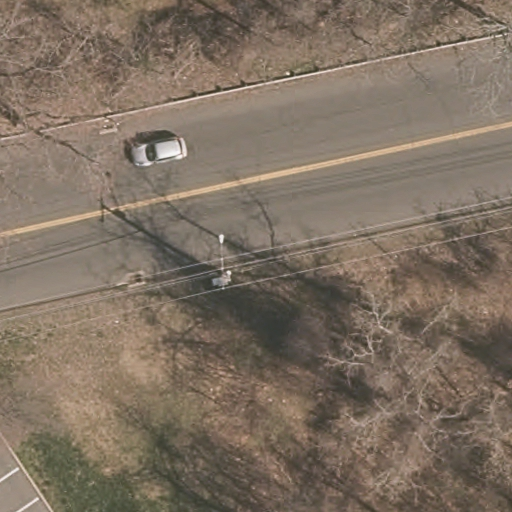DT: (198, 227, 240, 301)
